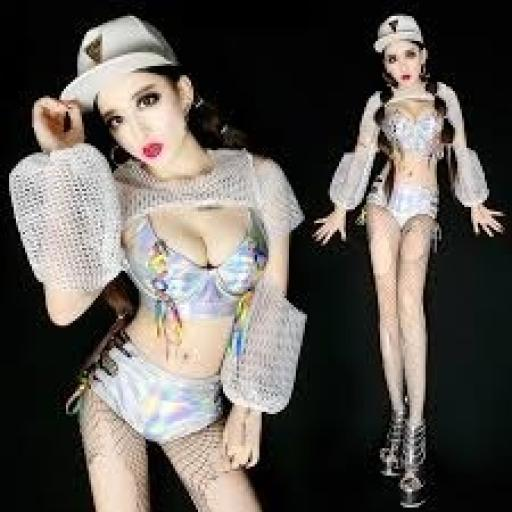dancing: (5, 11, 314, 510), (310, 11, 510, 510)
